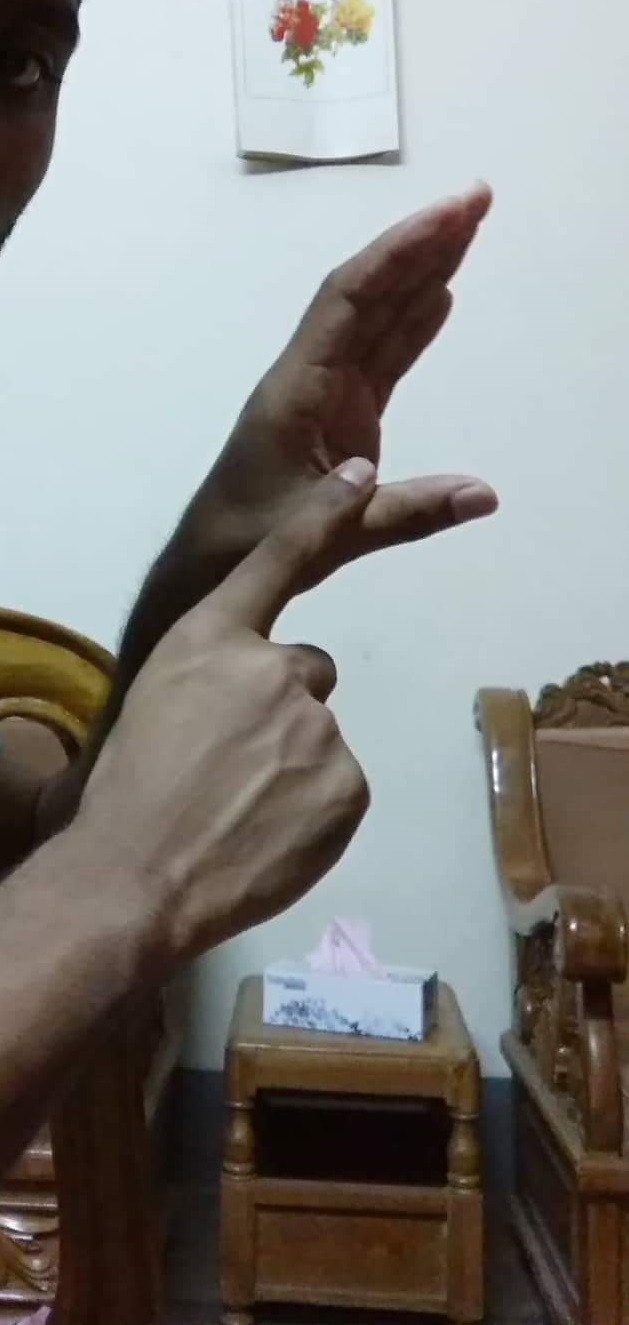dh: (159, 180, 500, 890)
